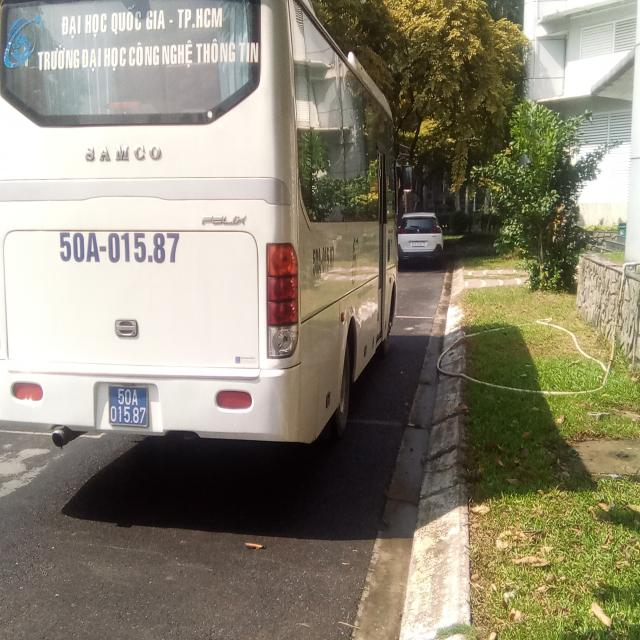bien_xanh: (107, 384, 151, 427)
